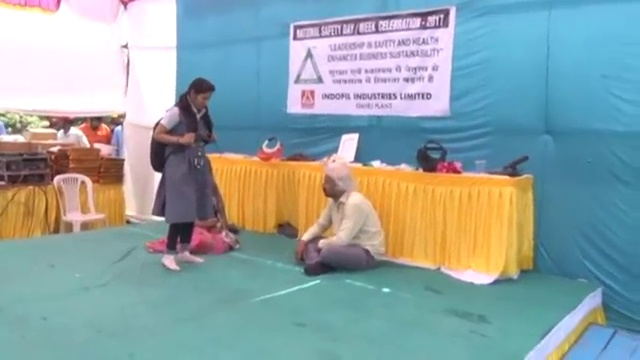helmet_off: (320, 162, 353, 198), (184, 78, 215, 113)
person: (145, 76, 217, 273), (296, 162, 388, 276), (186, 155, 239, 255), (74, 114, 112, 147), (56, 114, 90, 149), (111, 111, 126, 162)
